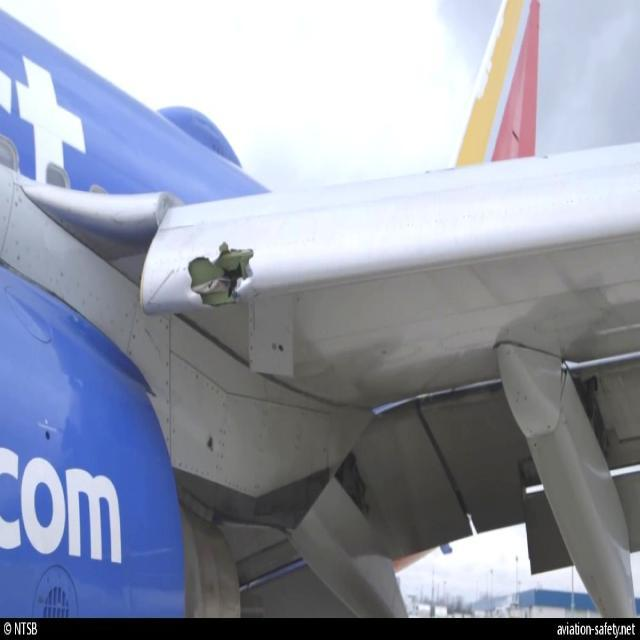crack: (187, 243, 258, 314)
